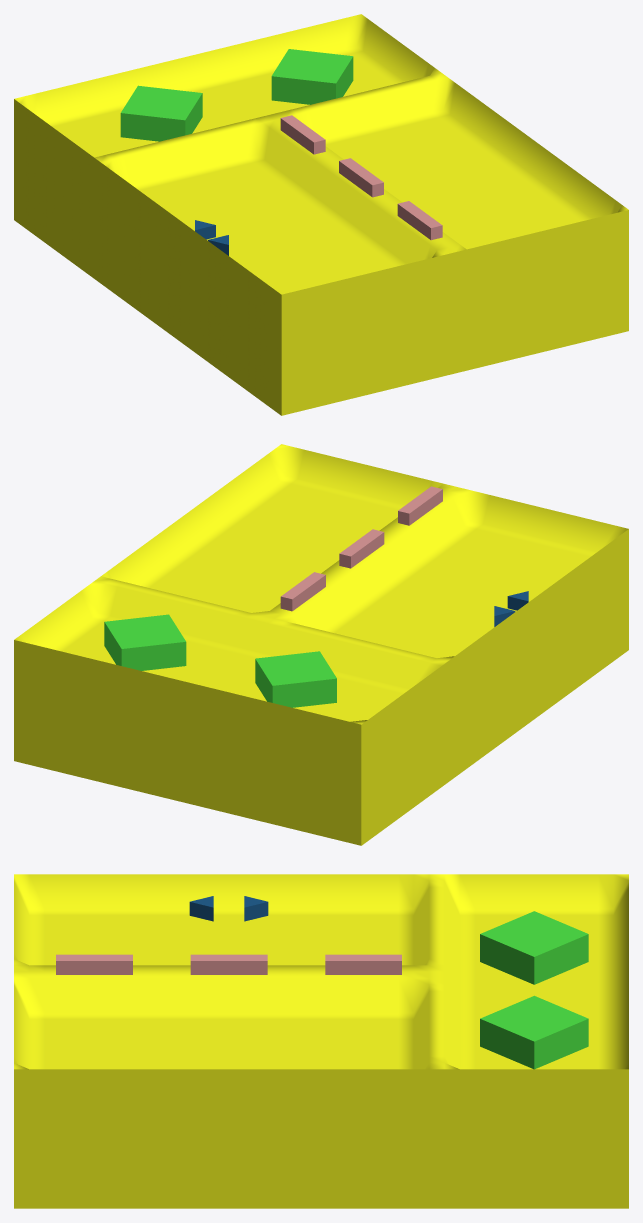
3 renders of one model, top to bottom at view 1: azimuth 30°, elevation 25°; view 2: azimuth 150°, elevation 25°; view 3: azimuth 270°, elevation 25°, orthographic. The views are drawn at different scales.
Parts seen in each view (by area): view 1: 主游戏箱, 加入游戏按钮, 主持游戏按钮, 删除卡组按钮, 创建卡组按钮, 修改卡组按钮; view 2: 主游戏箱, 主持游戏按钮, 加入游戏按钮, 创建卡组按钮, 修改卡组按钮, 删除卡组按钮; view 3: 主游戏箱, 主持游戏按钮, 加入游戏按钮, 修改卡组按钮, 创建卡组按钮, 删除卡组按钮, 上一页按钮, 下一页按钮.
Boxes of the visible parts, <box> form: 主游戏箱: <box>14,14,628,415</box>; 加入游戏按钮: <box>120,85,202,141</box>; 主持游戏按钮: <box>271,49,353,104</box>; 删除卡组按钮: <box>397,201,442,240</box>; 创建卡组按钮: <box>280,115,325,154</box>; 修改卡组按钮: <box>339,158,383,197</box>; 主游戏箱: <box>14,444,628,845</box>; 主持游戏按钮: <box>104,614,186,670</box>; 加入游戏按钮: <box>255,651,336,707</box>; 创建卡组按钮: <box>280,572,325,611</box>; 修改卡组按钮: <box>339,529,384,568</box>; 删除卡组按钮: <box>398,486,442,525</box>; 主游戏箱: <box>14,874,628,1208</box>; 主持游戏按钮: <box>480,995,588,1069</box>; 加入游戏按钮: <box>480,911,588,984</box>; 修改卡组按钮: <box>190,954,267,974</box>; 创建卡组按钮: <box>325,954,401,974</box>; 删除卡组按钮: <box>56,954,132,974</box>; 上一页按钮: <box>244,896,268,921</box>; 下一页按钮: <box>189,896,213,921</box>.
Bounding box in the file's own units: 600 × 220 × 800.
